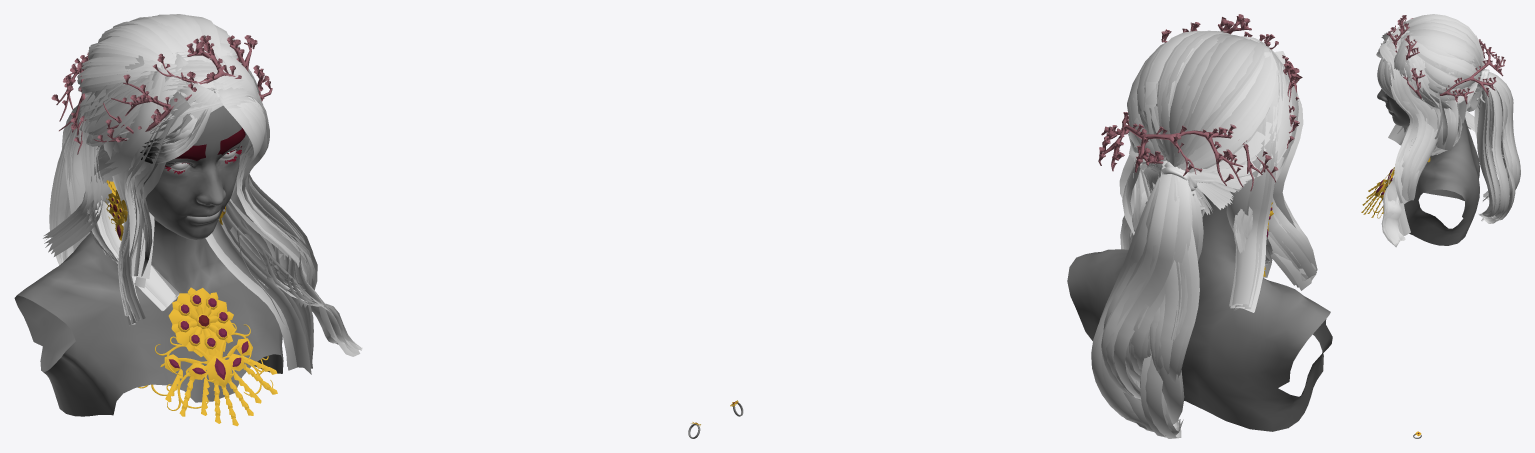
Rendered from HeadRing&HairPinRetopoAndMixedHairstyleForRayII.fbx.
The picture shows the model from 3 angles, left to right: view 1: azimuth 30°, elevation 25°; view 2: azimuth 150°, elevation 25°; view 3: azimuth 270°, elevation 25°; orthographic projection. The views are drawn at different scales.
Parts seen in each view (by area): view 1: Body, LongHairMainMain, PonytailMix, LongHairMix2, HeadRingLD, LongHairMix3; view 2: PonytailMix, Body, LongHairMainMain, HeadRingLD.001, PonytailBackMix; view 3: PonytailMix, LongHairMainMain, Body, HeadRingLD.001, LongHairMix3, PonytailBackMix, LongHairMix2, HeadRingLD.
Boxes of the visible parts, x1,y1,x2,y2 form: Body: (14,91,283,416); LongHairMainMain: (43,51,362,374); PonytailMix: (49,14,260,264); LongHairMix2: (134,89,307,329); HeadRingLD: (93,39,272,142); LongHairMix3: (223,96,265,162); PonytailMix: (1091,30,1298,438); Body: (1067,192,1332,431); LongHairMainMain: (1120,36,1317,312); HeadRingLD.001: (1098,119,1275,191); PonytailBackMix: (1129,150,1249,217); PonytailMix: (1394,14,1520,223); LongHairMainMain: (1379,23,1474,247); Body: (1377,89,1479,245); HeadRingLD.001: (1439,42,1504,104); LongHairMix3: (1377,57,1394,100); PonytailBackMix: (1455,79,1482,111); LongHairMix2: (1376,48,1447,185); HeadRingLD: (1391,18,1425,98).
Bounding box in the file's own units: 76.82 × 60.24 × 30.4.
